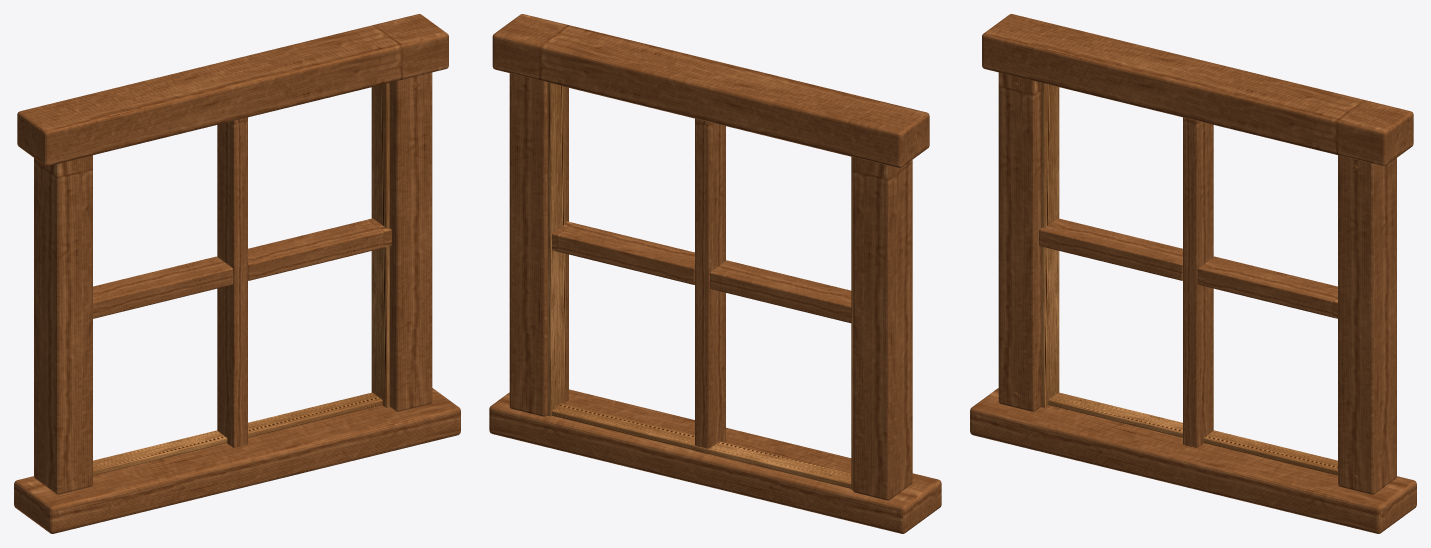
The model's file is bare-window.glb.
3 views of the same model, side by side, from view 1: azimuth 30°, elevation 25°; view 2: azimuth 150°, elevation 25°; view 3: azimuth 330°, elevation 25° (orthographic).
Parts seen in each view (by area): view 1: Heavy top casing, Projecting sill, Vertical jamb, Vertical jamb.001, Vertical mullion, Inner rebate.001, Half-lapped crossbar.001, Half-lapped crossbar, Raised bottom glazing stop; view 2: Heavy top casing, Vertical jamb, Projecting sill, Vertical jamb.001, Vertical mullion, Inner rebate.001, Half-lapped crossbar.001, Half-lapped crossbar, Raised bottom glazing stop, Inner rebate; view 3: Heavy top casing, Projecting sill, Vertical jamb.001, Vertical jamb, Vertical mullion, Inner rebate, Half-lapped crossbar, Half-lapped crossbar.001, Raised bottom glazing stop.
Boxes of the visible parts, x1,y1,x2,y2 form: Heavy top casing: [17, 14, 448, 166]; Projecting sill: [14, 388, 460, 533]; Vertical jamb: [34, 155, 92, 494]; Vertical jamb.001: [389, 72, 432, 411]; Vertical mullion: [217, 117, 247, 447]; Inner rebate.001: [371, 83, 389, 407]; Half-lapped crossbar.001: [248, 218, 391, 280]; Half-lapped crossbar: [93, 256, 233, 318]; Raised bottom glazing stop: [93, 392, 382, 475]; Heavy top casing: [492, 14, 929, 167]; Vertical jamb: [853, 157, 912, 500]; Projecting sill: [489, 389, 941, 533]; Vertical jamb.001: [509, 73, 568, 416]; Vertical mullion: [695, 118, 725, 453]; Inner rebate.001: [547, 82, 565, 416]; Half-lapped crossbar.001: [552, 221, 694, 284]; Half-lapped crossbar: [710, 260, 851, 323]; Raised bottom glazing stop: [551, 403, 851, 488]; Inner rebate: [851, 156, 852, 490]; Heavy top casing: [982, 14, 1413, 166]; Projecting sill: [970, 388, 1416, 533]; Vertical jamb.001: [1338, 155, 1396, 494]; Vertical jamb: [998, 72, 1041, 411]; Vertical mullion: [1183, 117, 1213, 447]; Inner rebate: [1041, 83, 1059, 407]; Half-lapped crossbar: [1039, 218, 1182, 280]; Half-lapped crossbar.001: [1197, 256, 1337, 318]; Raised bottom glazing stop: [1048, 392, 1337, 475].
Bounding box in the file's own units: 1.26 × 1.16 × 0.203.
Materials: 3 (3 with a texture image).
